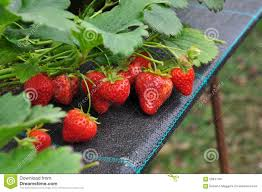ripe: (132, 71, 176, 118), (164, 54, 198, 97), (60, 107, 99, 144), (96, 73, 132, 106), (23, 73, 53, 106), (120, 52, 156, 77), (77, 66, 107, 96), (52, 72, 76, 107), (88, 88, 113, 120), (27, 126, 55, 154)
